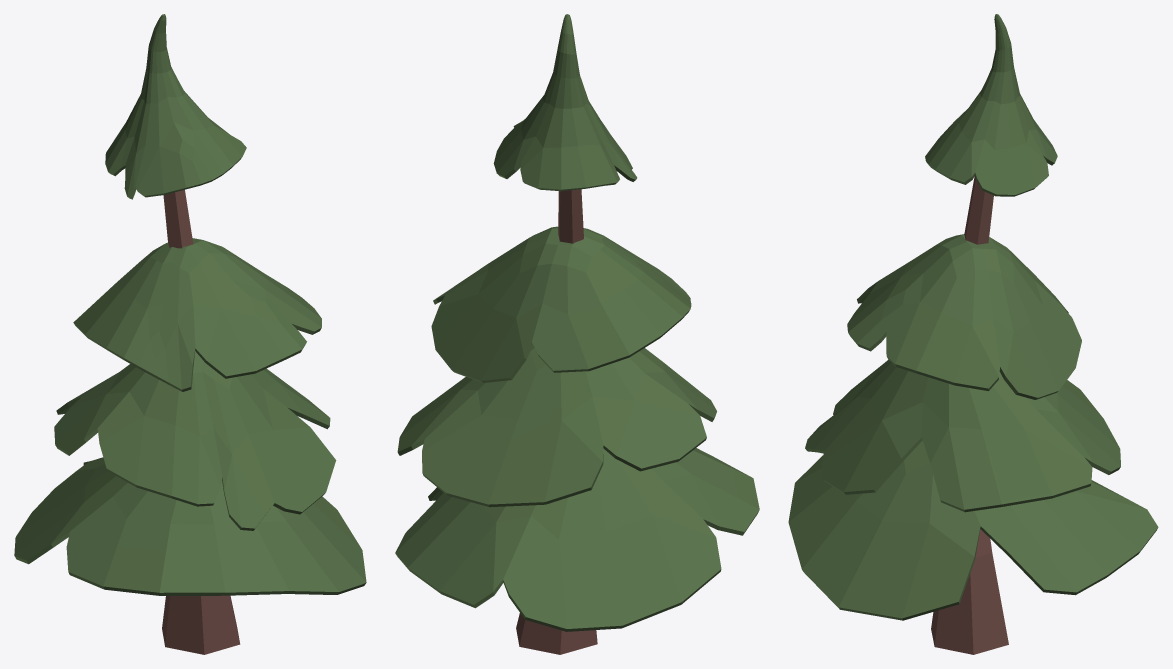
Rendered from pinetree_2.glb.
3 renders of one model, left to right at view 1: azimuth 30°, elevation 25°; view 2: azimuth 150°, elevation 25°; view 3: azimuth 270°, elevation 25°, orthographic. The views are drawn at different scales.
Visible parts, largest first — view 1: PineTree_2; view 2: PineTree_2; view 3: PineTree_2.
Boxes of the visible parts, <box> form: PineTree_2: <box>14,14,366,654</box>; PineTree_2: <box>395,14,759,654</box>; PineTree_2: <box>788,14,1158,654</box>.
Bounding box in the file's own units: 1.8 × 3.56 × 1.96.
